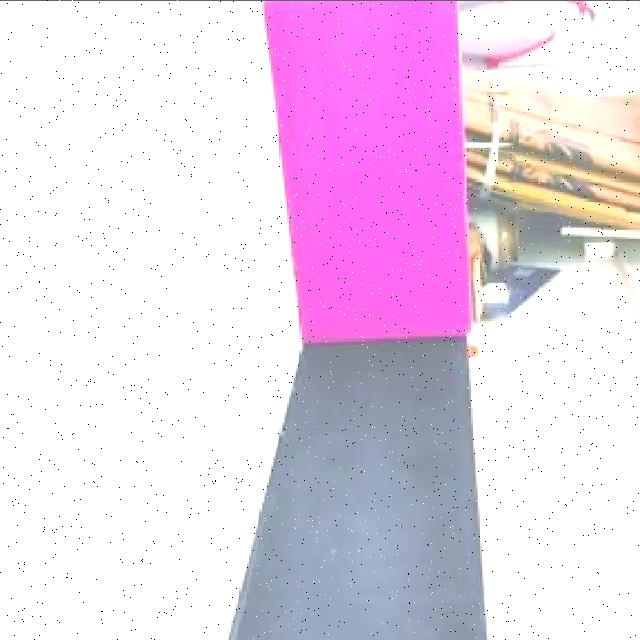xparking: (272, 0, 458, 329)
